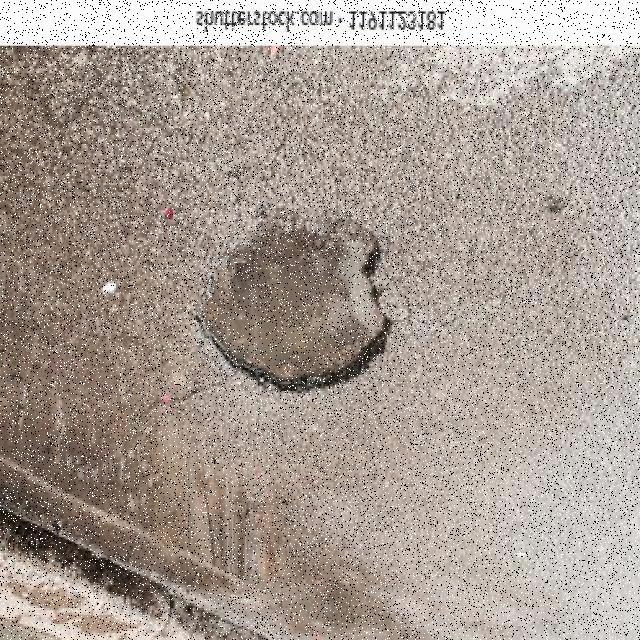Pothole: (200, 217, 393, 393)
